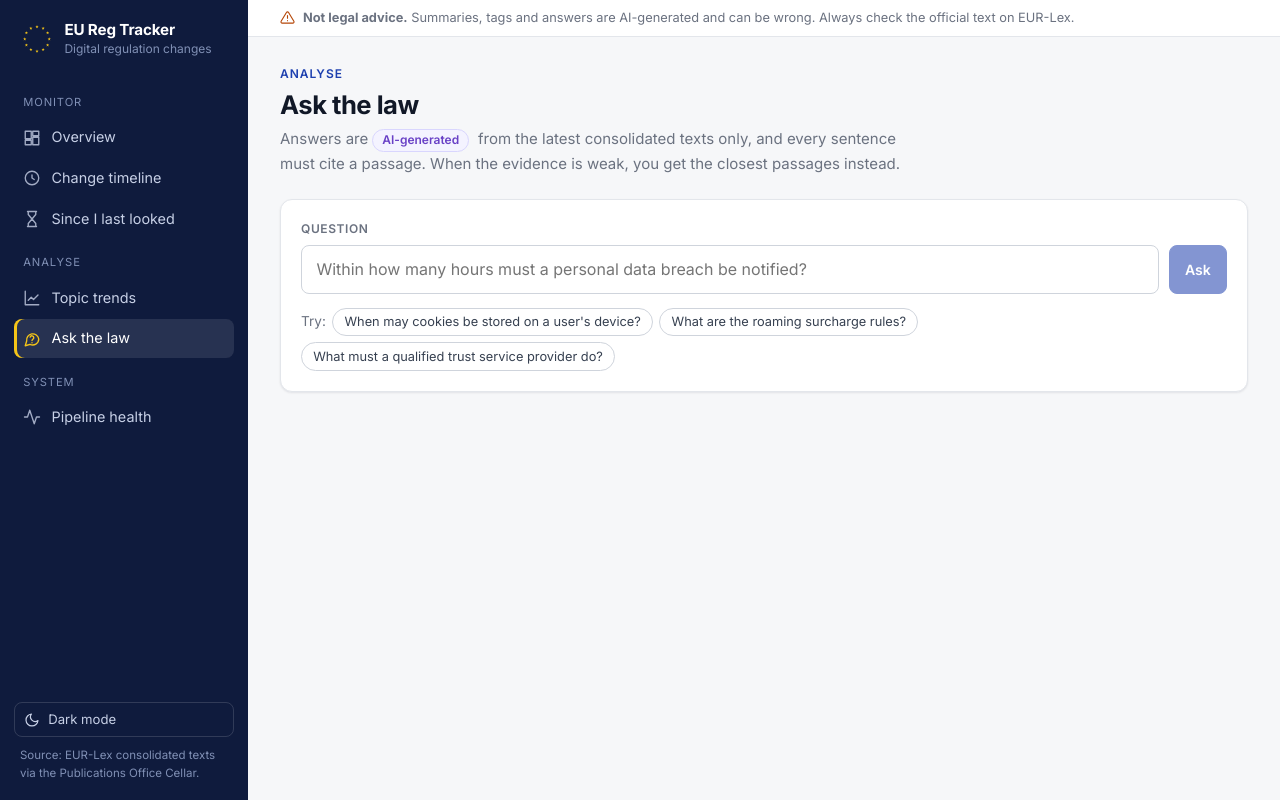
Test: ask › explains refusals and shows passages
The width and height of the screenshot is (1280, 800).
Type "How do I bake bread?" into the field labelled "Question".
click(730, 270); type("How do I bake bread?")  # box [301,245,1159,294]
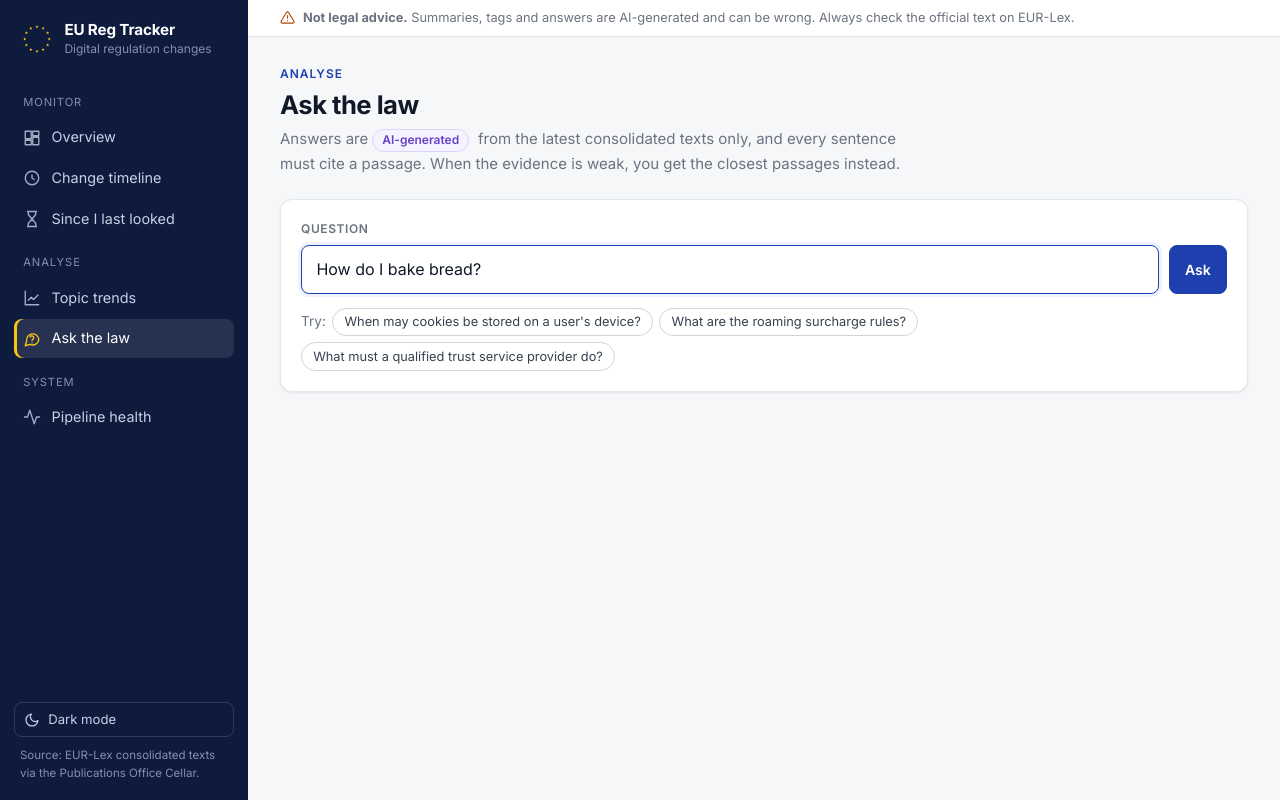
Click the button "Ask".
click(1198, 270)  # box [1169,245,1227,294]
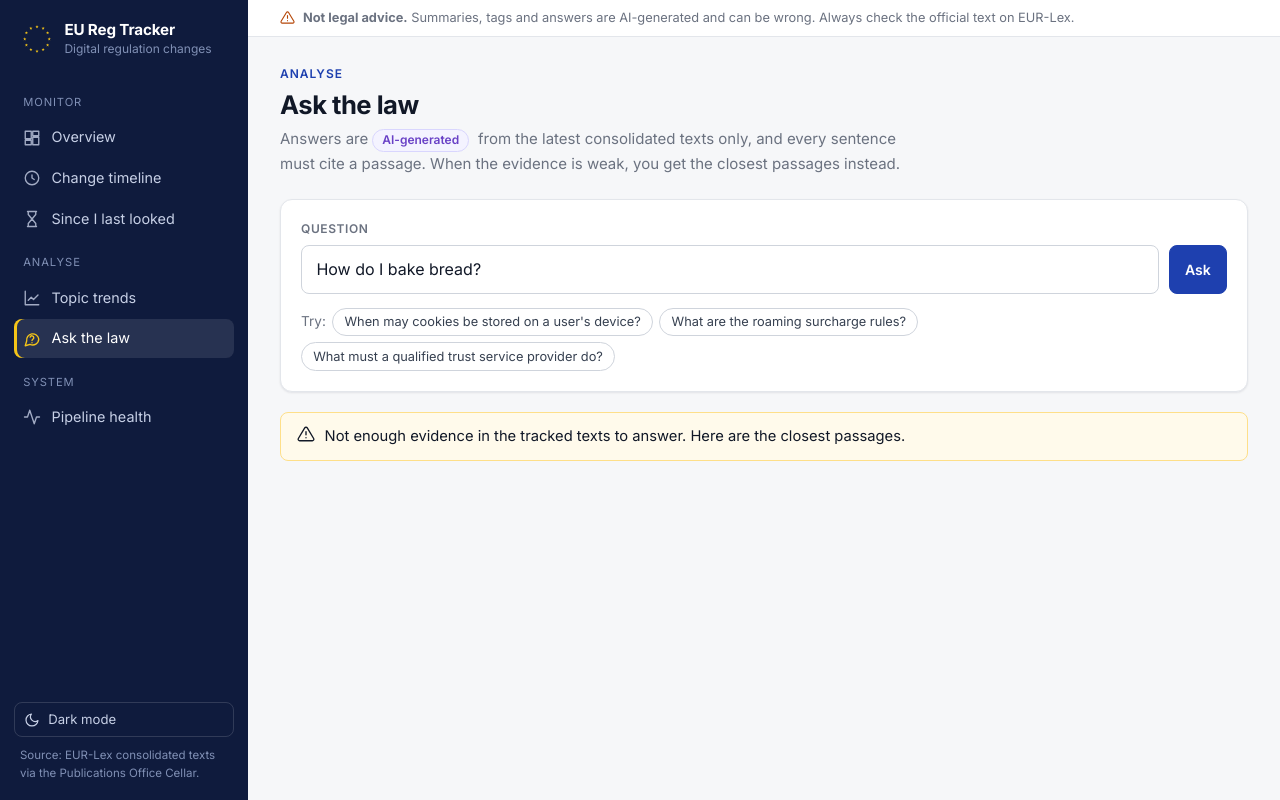
Expected: the text "Not enough evidence" is shown, [325,427,686,445]
